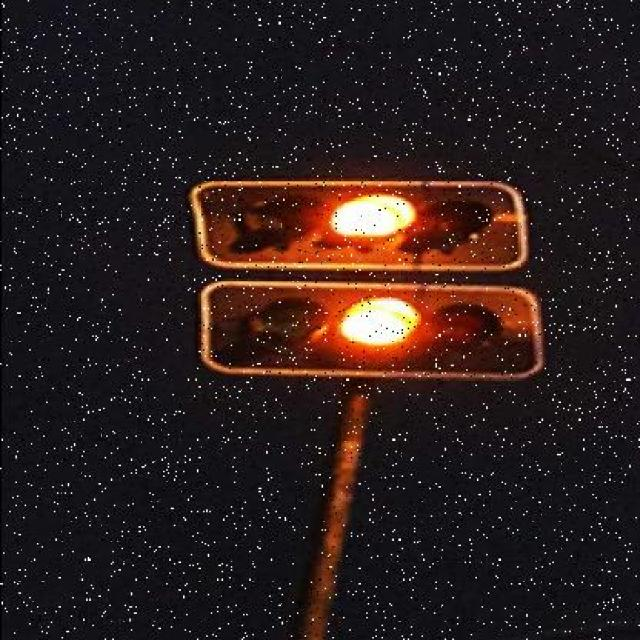yellow-light: (195, 280, 548, 385), (191, 181, 534, 272)
